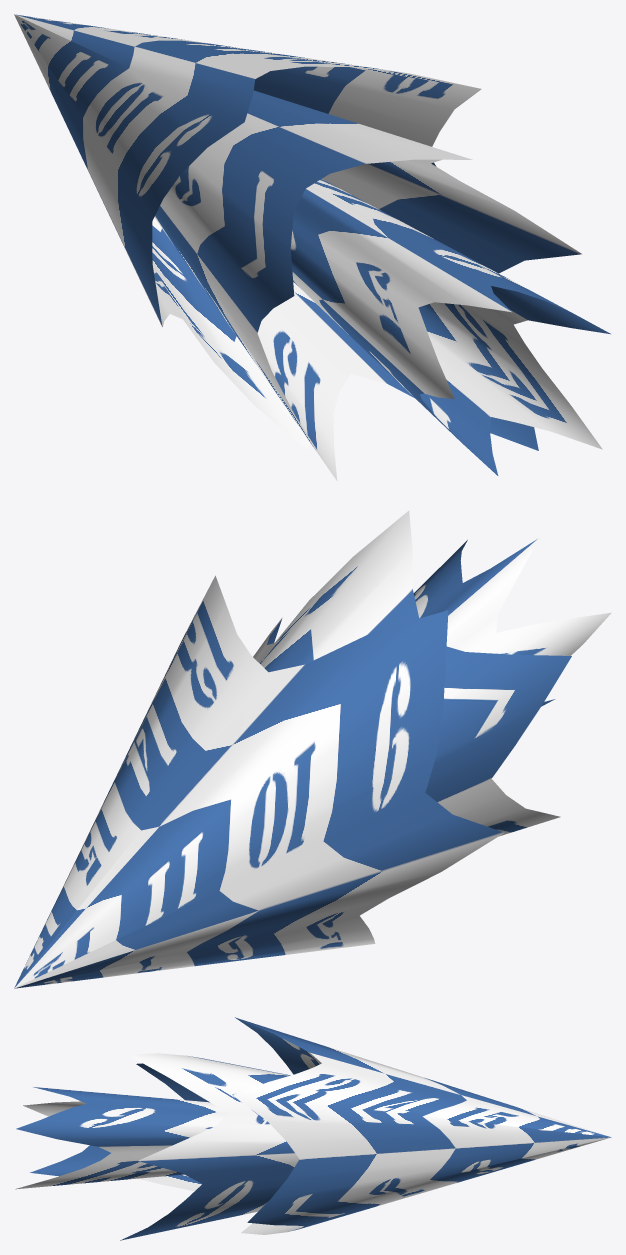
Rendered from Shinobu_Blow1.fbx.
3 views of the same model, one above another, from view 1: azimuth 30°, elevation 25°; view 2: azimuth 150°, elevation 25°; view 3: azimuth 270°, elevation 25° (orthographic). The views are drawn at different scales.
Parts seen in each view (by area): view 1: SM_e_Plc_P0011_Unique001; view 2: SM_e_Plc_P0011_Unique001; view 3: SM_e_Plc_P0011_Unique001.
Part boxes in pixels (x1,y1,x2,y2): SM_e_Plc_P0011_Unique001: (14,14,610,480); SM_e_Plc_P0011_Unique001: (14,510,611,988); SM_e_Plc_P0011_Unique001: (15,1017,611,1240).
Size of the model in its own units: 82.01 by 81.17 by 223.
